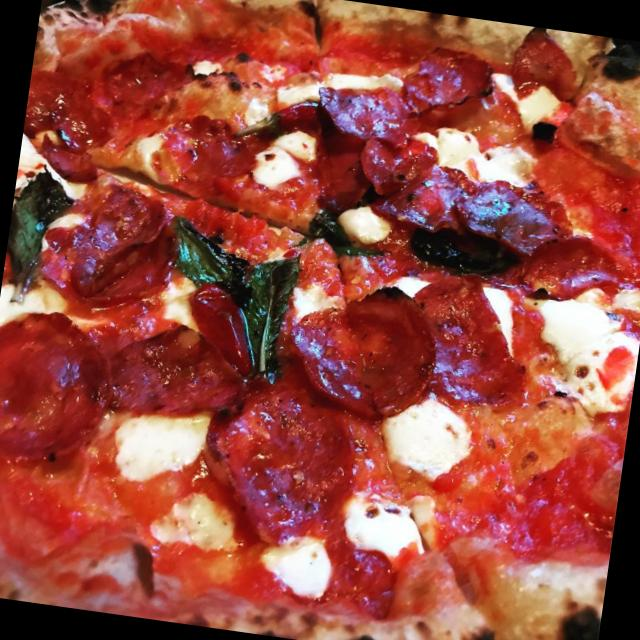pepperoni: (188, 361, 362, 548), (39, 166, 190, 322), (286, 278, 441, 428), (372, 158, 560, 260), (0, 298, 113, 465), (396, 266, 524, 409), (391, 35, 499, 123), (350, 130, 446, 200), (318, 76, 409, 145), (510, 31, 575, 102)
pizza: (0, 0, 640, 640)
